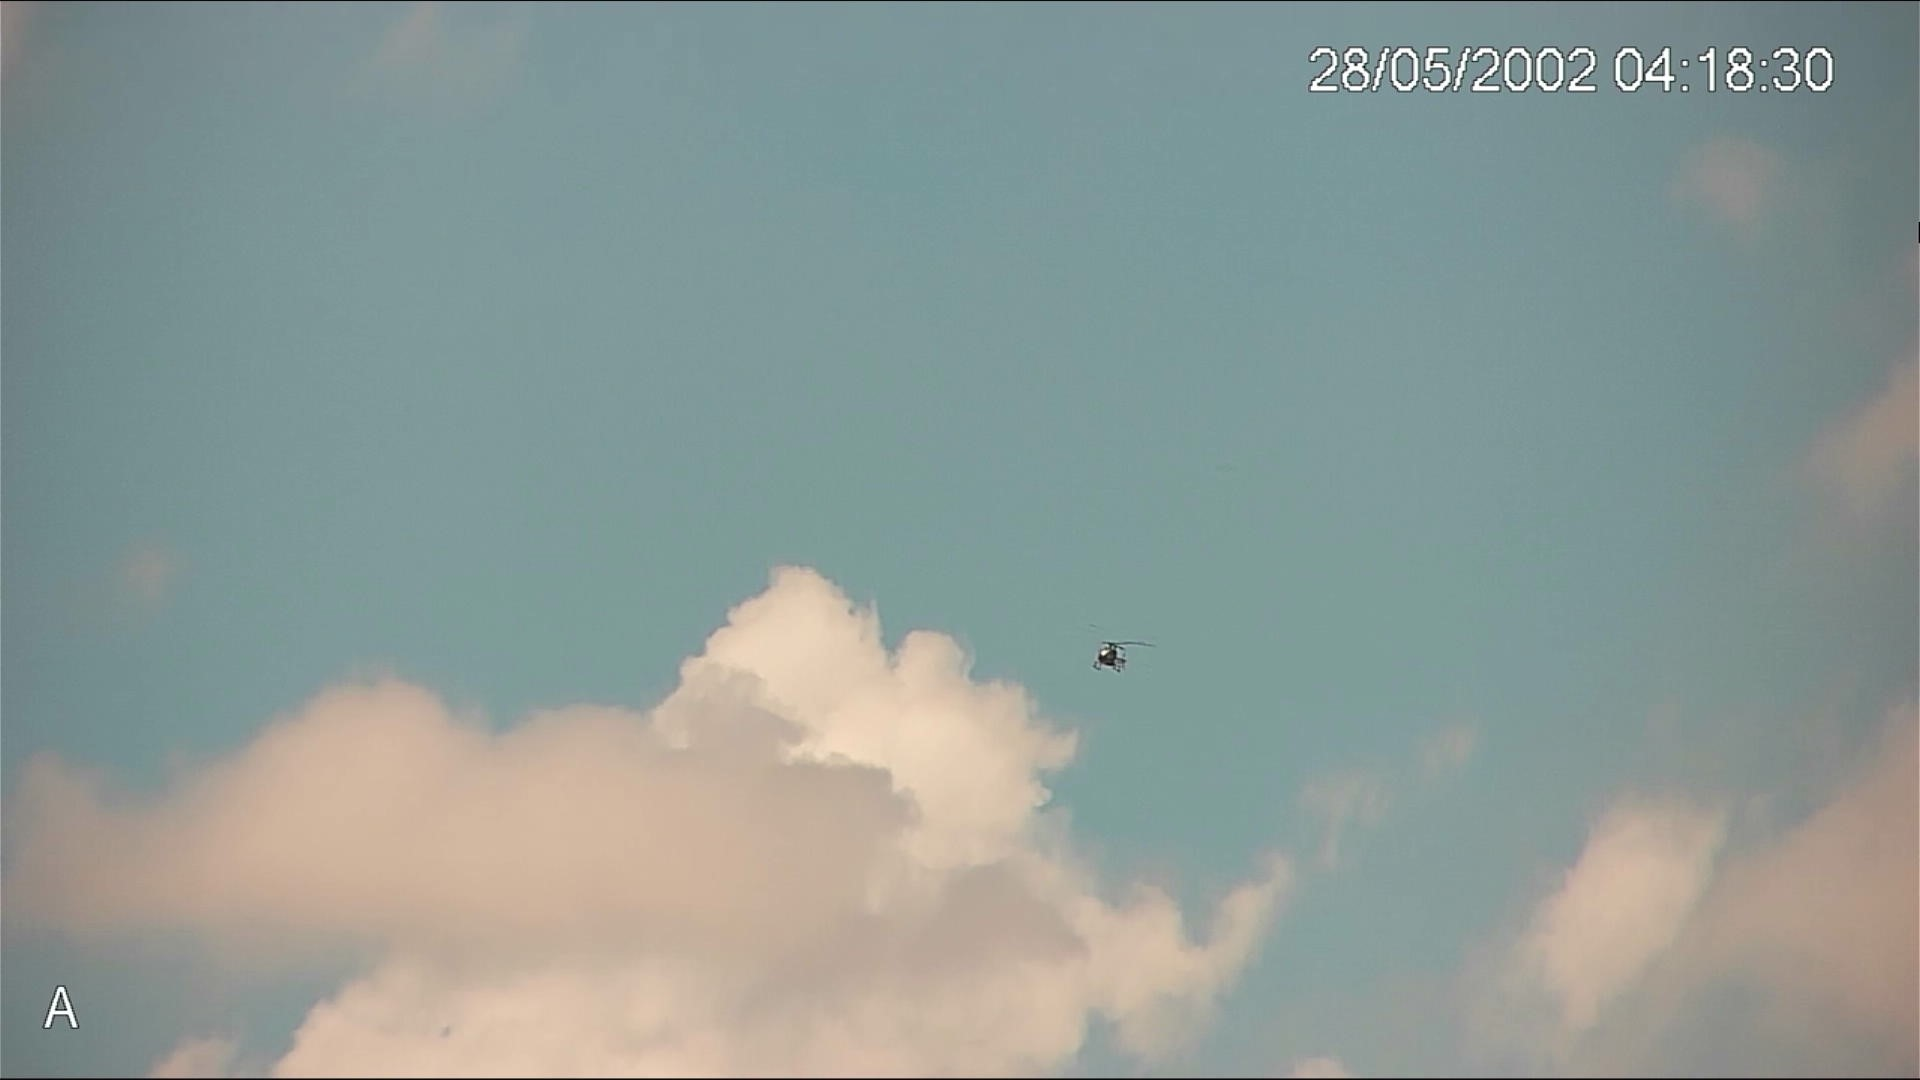SU_30: (1088, 640, 1129, 676)
